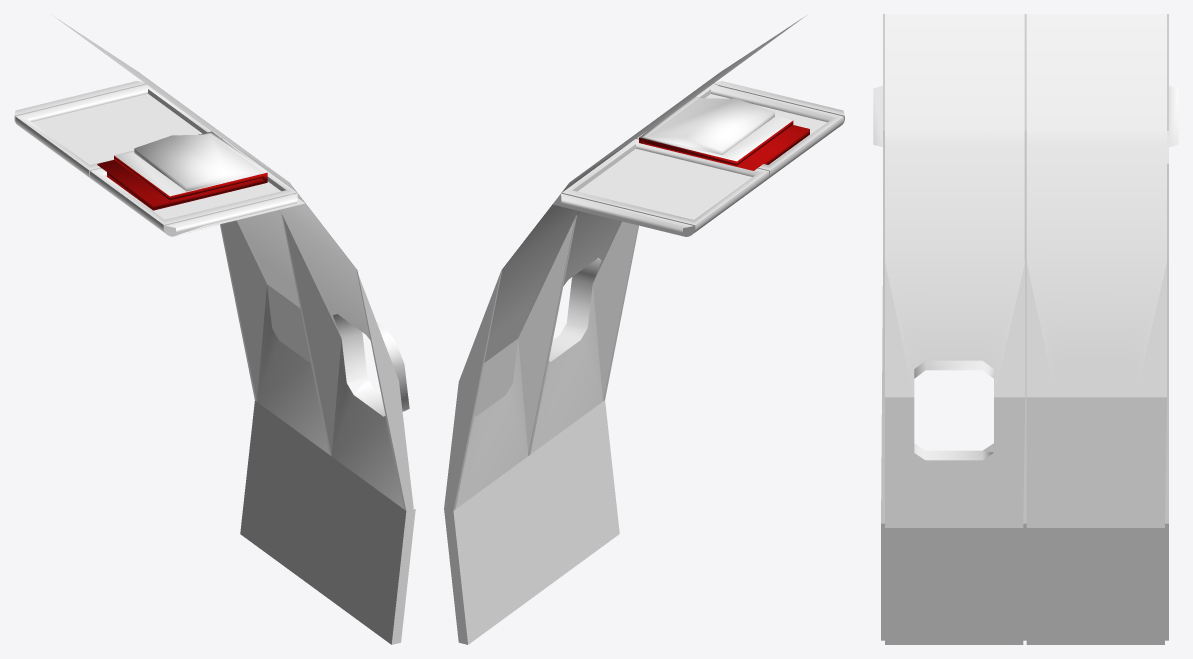
Rendered from Paredes2.dae.
The picture shows the model from 3 angles, left to right: view 1: azimuth 30°, elevation 25°; view 2: azimuth 150°, elevation 25°; view 3: azimuth 270°, elevation 25°; orthographic projection. The views are drawn at different scales.
Parts seen in each view (by area): view 1: Group_001, Group_001.001, Group_008; view 2: Group_001.001, Group_001, Group_008; view 3: Group_001.001, Group_001.
Part boxes in pixels (left/top/right/bottom): Group_001: left=89, top=71, right=415, bottom=644; Group_001.001: left=14, top=16, right=331, bottom=589; Group_008: left=97, top=131, right=267, bottom=210; Group_001.001: left=444, top=70, right=769, bottom=644; Group_001: left=528, top=15, right=844, bottom=588; Group_008: left=639, top=96, right=809, bottom=170; Group_001.001: left=1023, top=14, right=1178, bottom=644; Group_001: left=873, top=14, right=1026, bottom=644.
Bounding box in the file's own units: 0.9195 × 0.9743 × 1.9.
